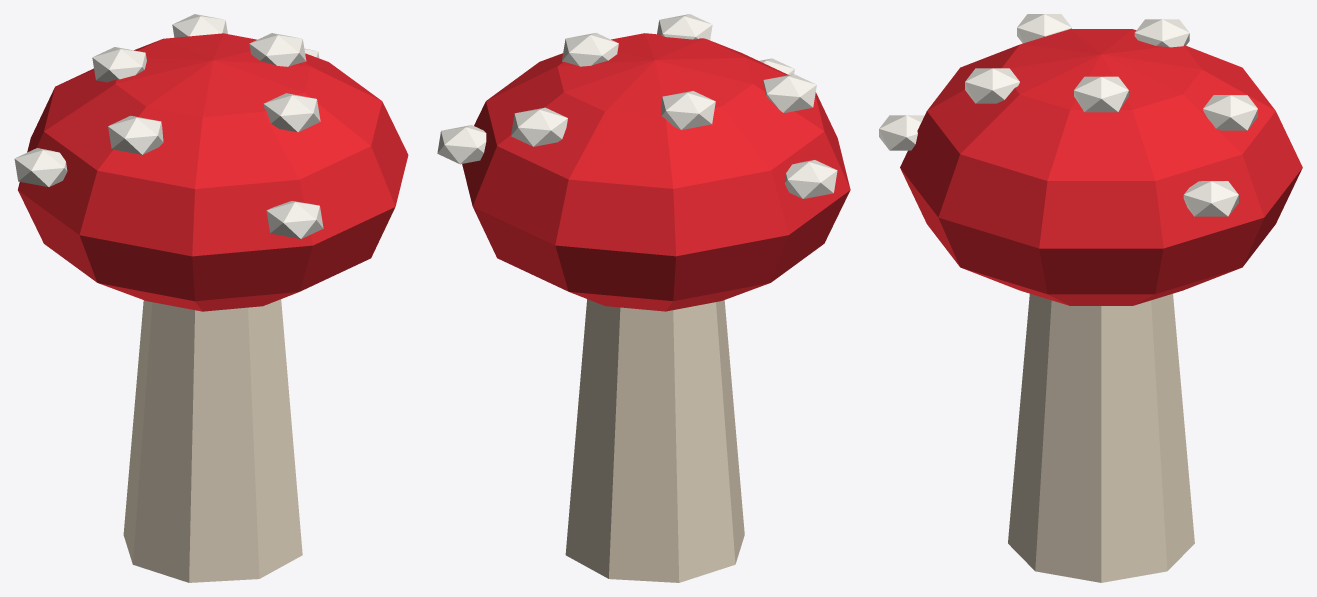
The model's file is cogumelo_vermelho.glb.
The picture shows the model from 3 angles, left to right: view 1: azimuth 30°, elevation 25°; view 2: azimuth 150°, elevation 25°; view 3: azimuth 270°, elevation 25°; orthographic projection.
Parts seen in each view (by area): view 1: Cap, Stem, Spot_04, Spot_08, Spot_05, Spot_07, Spot_01, Spot_03, Spot_02; view 2: Cap, Stem, Spot_02, Spot_03, Spot_07, Spot_04, Spot_06, Spot_01, Spot_05; view 3: Cap, Stem, Spot_01, Spot_06, Spot_02, Spot_05, Spot_03, Spot_08, Spot_04.
Boxes of the visible parts, bbox=[...] form: Cap: bbox=[18, 33, 408, 311]; Stem: bbox=[123, 299, 302, 582]; Spot_04: bbox=[108, 115, 163, 154]; Spot_08: bbox=[266, 201, 323, 238]; Spot_05: bbox=[263, 93, 320, 132]; Spot_07: bbox=[14, 148, 67, 187]; Spot_01: bbox=[249, 33, 306, 66]; Spot_03: bbox=[92, 47, 146, 82]; Spot_02: bbox=[172, 14, 227, 37]; Cap: bbox=[462, 33, 850, 311]; Stem: bbox=[565, 299, 744, 582]; Spot_02: bbox=[511, 107, 567, 146]; Spot_03: bbox=[660, 91, 715, 129]; Spot_07: bbox=[784, 160, 837, 198]; Spot_04: bbox=[763, 74, 816, 112]; Spot_06: bbox=[437, 125, 486, 164]; Spot_01: bbox=[562, 33, 618, 66]; Spot_05: bbox=[657, 14, 712, 40]; Cap: bbox=[900, 29, 1302, 305]; Stem: bbox=[1008, 293, 1194, 582]; Spot_01: bbox=[1074, 76, 1128, 112]; Spot_06: bbox=[1183, 181, 1238, 216]; Spot_02: bbox=[1203, 95, 1257, 130]; Spot_05: bbox=[965, 68, 1019, 103]; Spot_03: bbox=[1134, 19, 1189, 47]; Spot_08: bbox=[879, 115, 924, 150]; Spot_04: bbox=[1017, 14, 1071, 43].
Size of the model in its own units: 0.5687 by 0.7644 by 0.5889.
